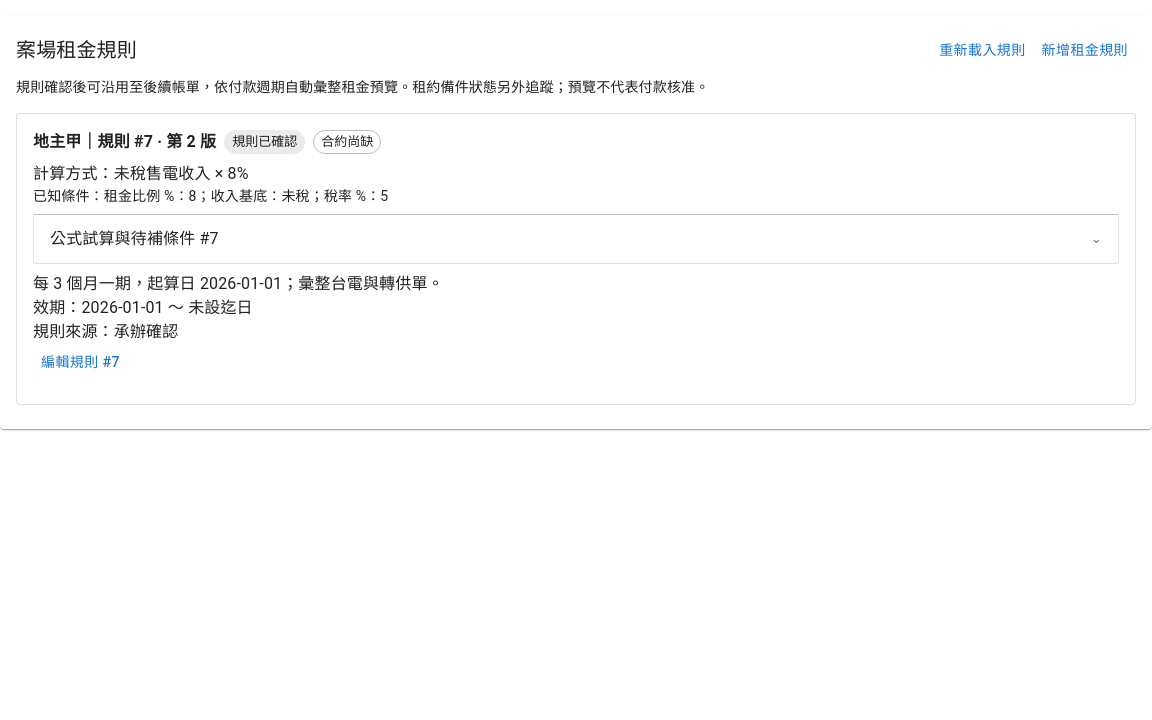
Test: station recurring rental rules › reloads the persisted updated version after saving
The width and height of the screenshot is (1152, 720).
Click the button "編輯規則 #7" at [80, 362], box top-left (33, 344), bottom-right (128, 380)
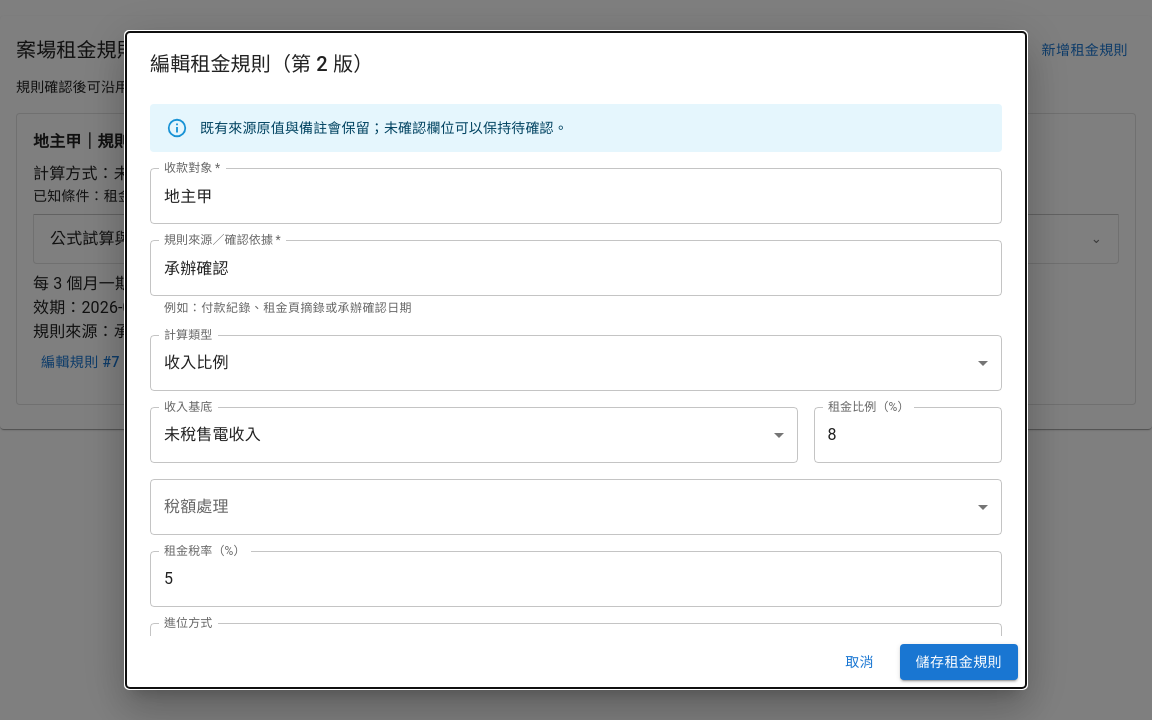
Click the button "儲存租金規則" at [959, 662], box top-left (900, 644), bottom-right (1018, 680)
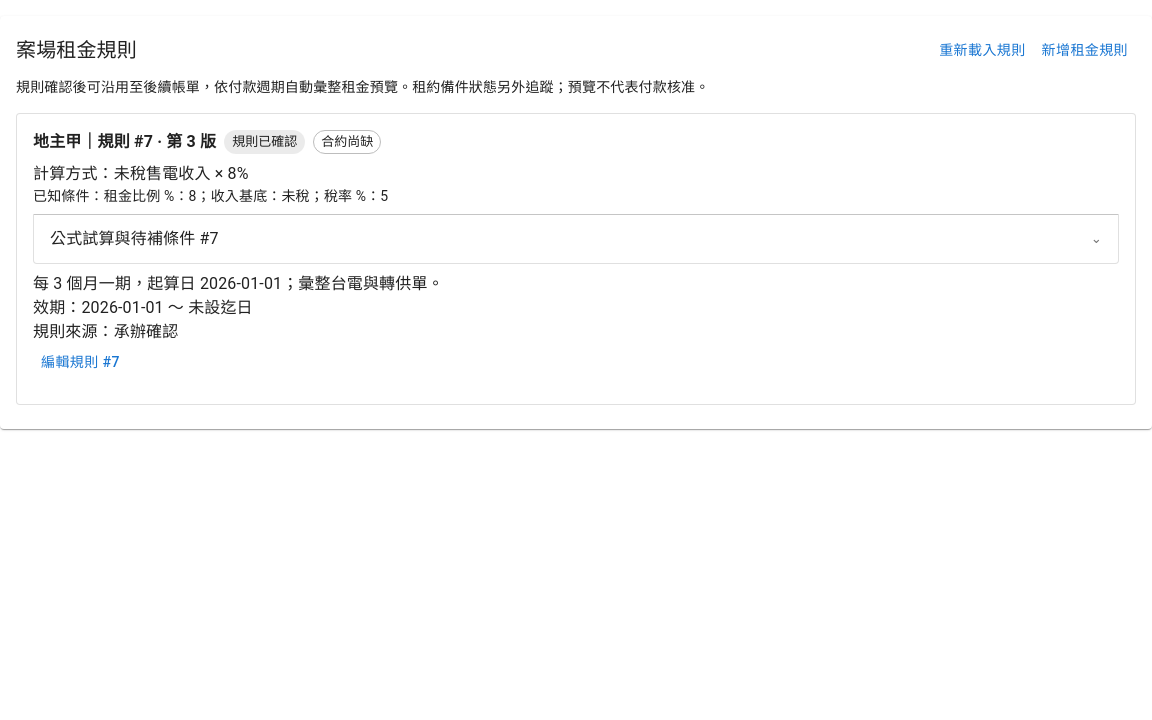
Expected: the text "地主甲｜規則 #7 · 第 3 版" is shown, top-left (33, 130), bottom-right (216, 154)
